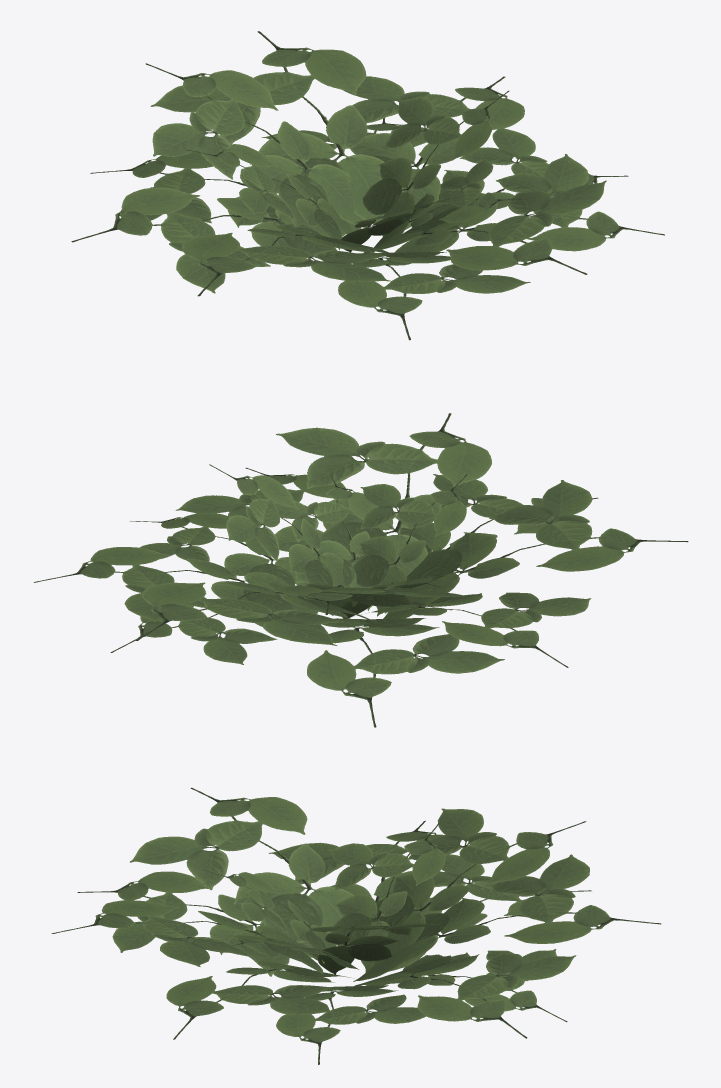
Rendered from defaulttinybush.glb.
3 renders of one model, top to bottom at view 1: azimuth 30°, elevation 25°; view 2: azimuth 150°, elevation 25°; view 3: azimuth 270°, elevation 25°, orthographic. The views are drawn at different scales.
Visible parts, largest first — view 1: DefaultTinyBush; view 2: DefaultTinyBush; view 3: DefaultTinyBush.
Part boxes in pixels (box(x1,y1,x2,y2)): DefaultTinyBush: box(71, 31, 664, 340); DefaultTinyBush: box(33, 413, 688, 727); DefaultTinyBush: box(51, 787, 661, 1064).
Size of the model in its own units: 1.74 by 0.4255 by 1.9.
Materials: 1 (1 with a texture image).
